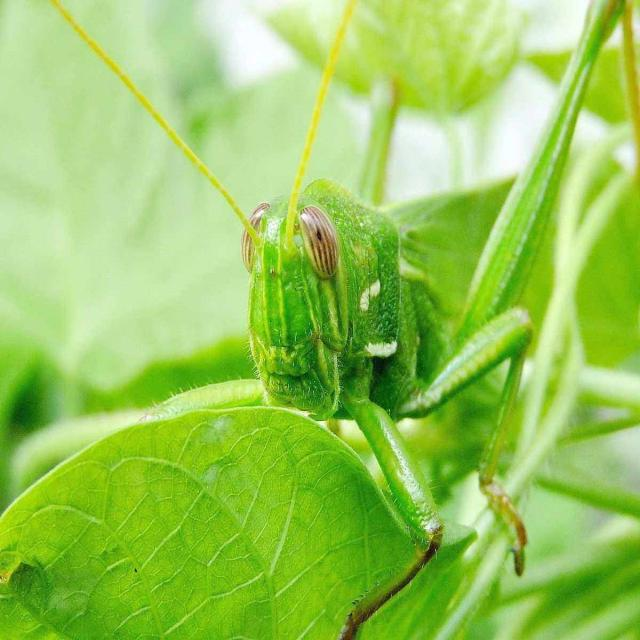ZhaMeng: (207, 151, 492, 563)
